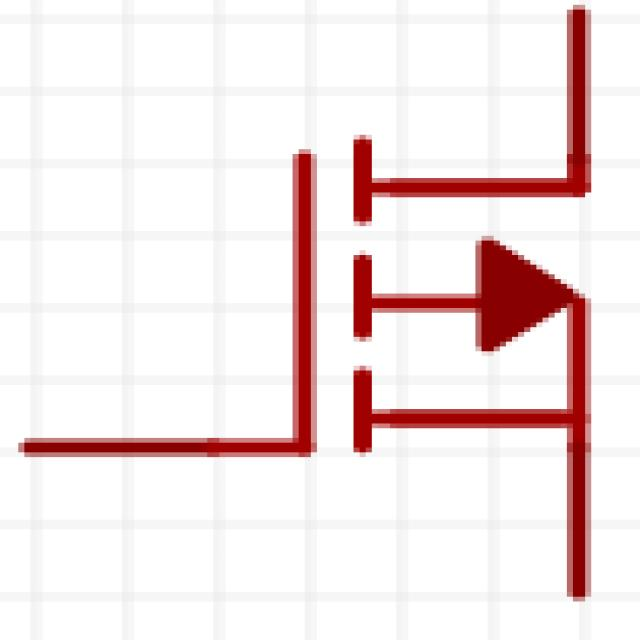pmos: (49, 43, 640, 640)
